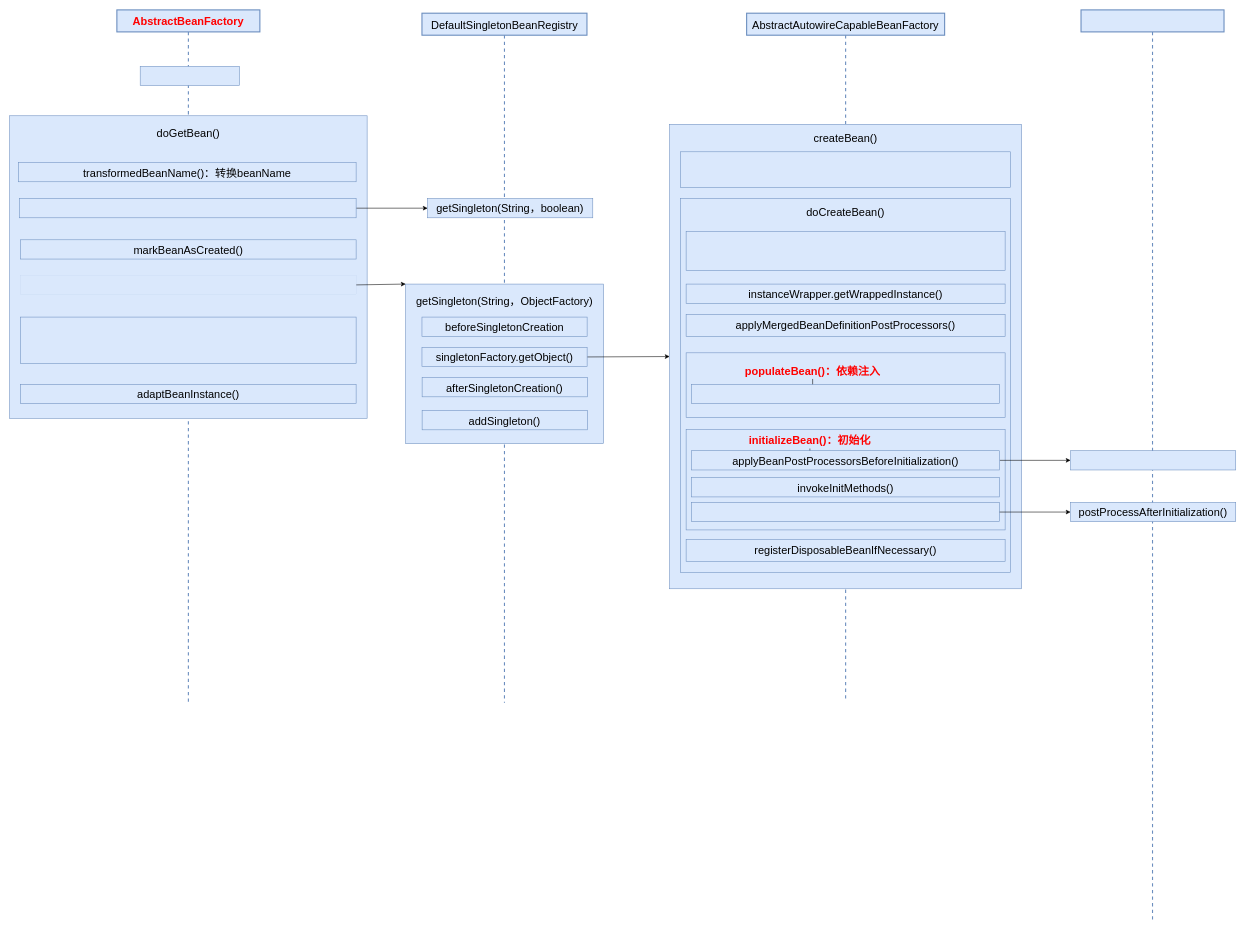
Image size: 1246x931. Some labels were removed from this diagram. The box of each missing label's shape, as (x1, y1, x2, y2) in pixels:
applyBeanPostProcessorsAfterInitialization()：含代理生成: (691, 502, 1000, 522)
applyPropertyValues(): (691, 384, 1000, 404)
BeanPostProcessor: (1080, 9, 1224, 921)
createBeanInstance()：实例化 存在多种方式创建实例: (686, 231, 1005, 271)
getBean(): (140, 66, 240, 86)
getObjectForBeanInstance()：确保返回真正目标对象，而不是FactoryBean本身: (20, 317, 356, 363)
postProcessBeforeInitialization(): (1070, 450, 1236, 470)
resolveBeforeInstantiation()：给BeanPostProcessor一个机会去创建代理对象来代替目标Bean: (680, 151, 1011, 187)
尝试从缓存中获取单例Bean: (19, 198, 356, 218)
